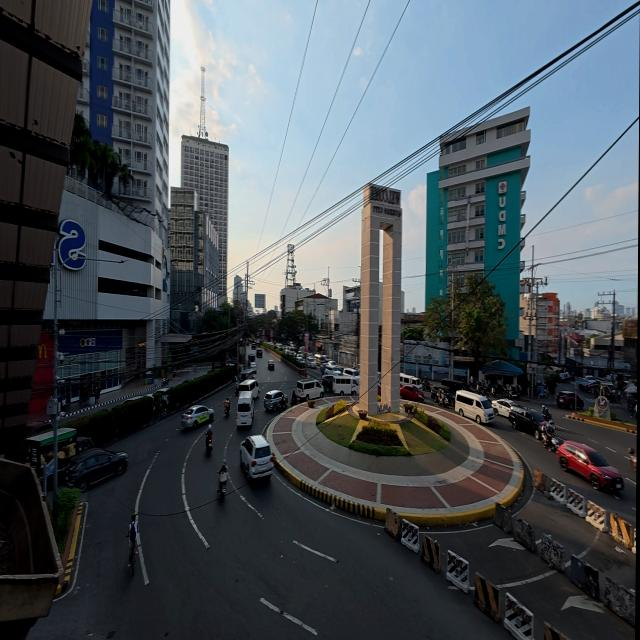car: (58, 448, 127, 489), (237, 435, 274, 481), (179, 406, 213, 432)
vans: (235, 384, 256, 429)
